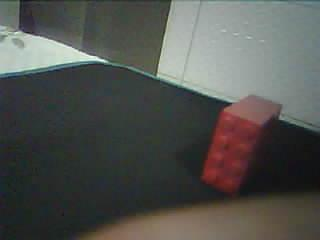lego: (199, 92, 283, 198)
